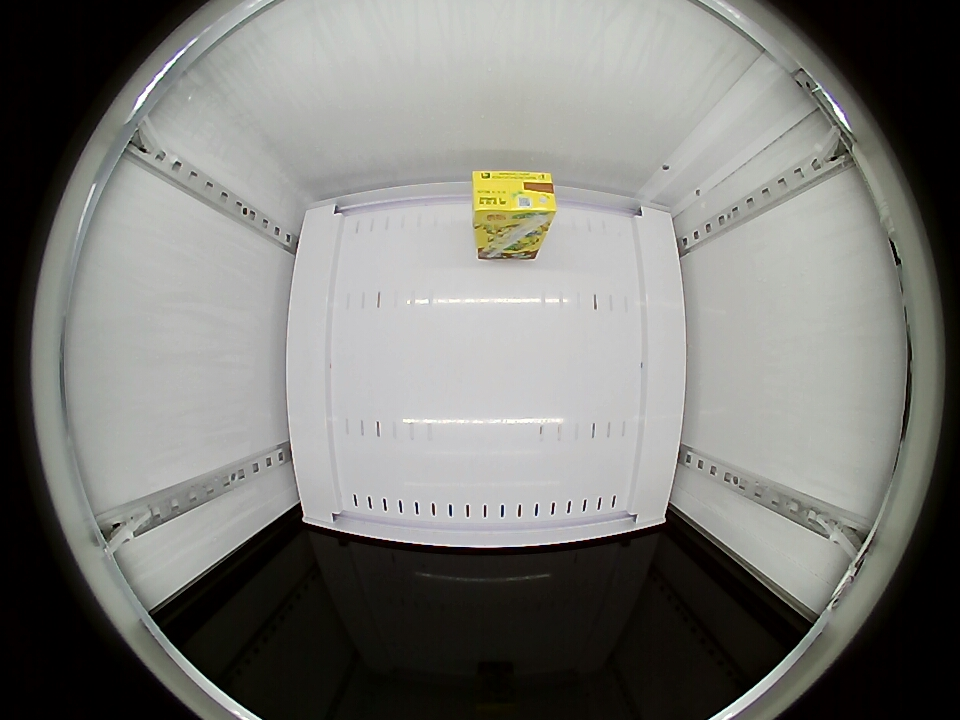weitaningmeng: (472, 169, 557, 232)
